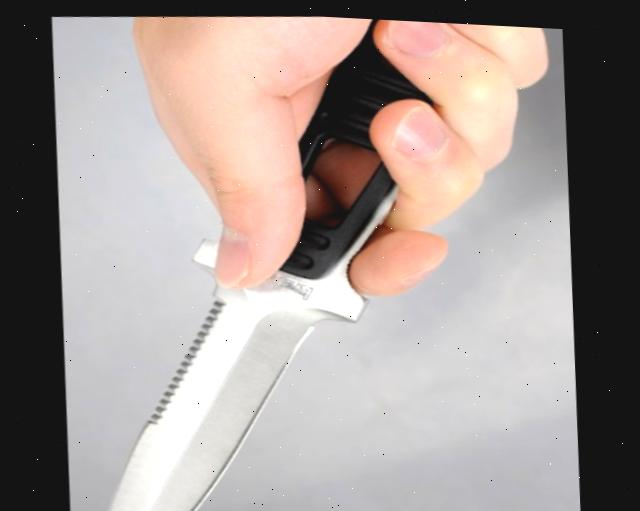pocket-knife: (53, 2, 499, 511)
